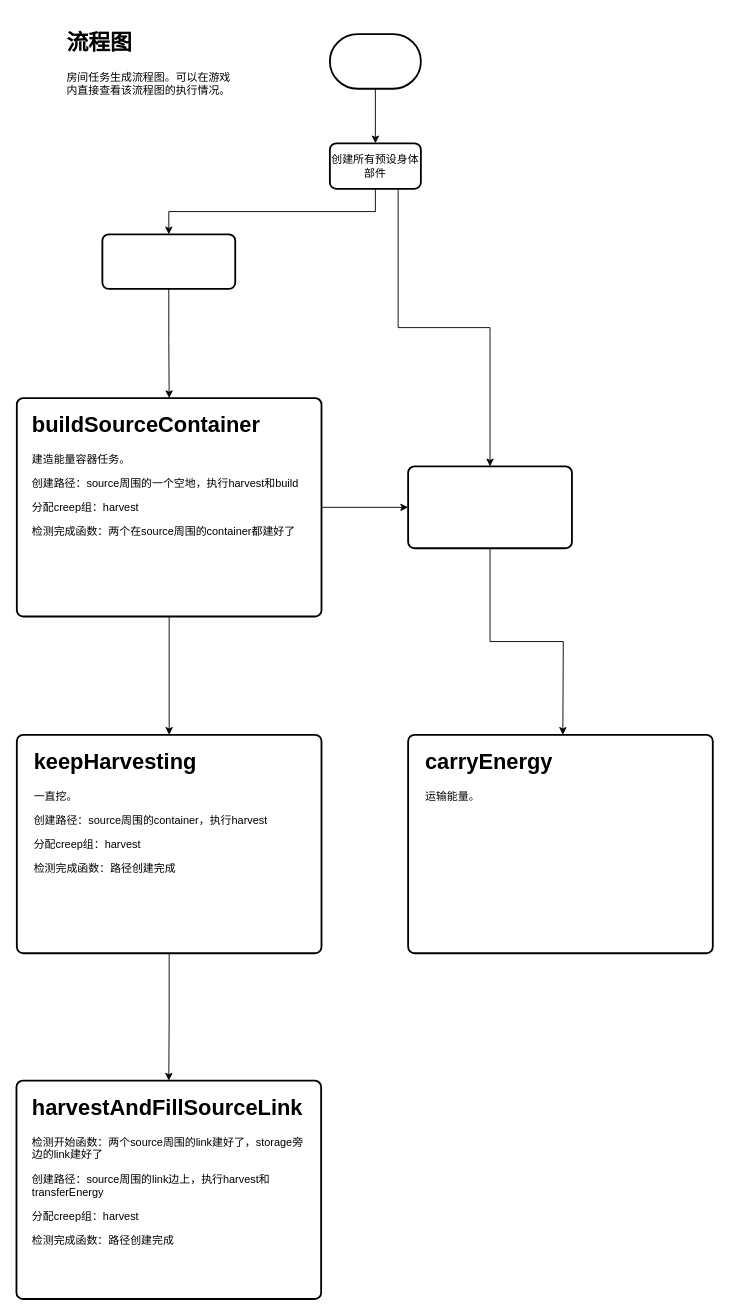
Some shapes in this 730 by 1315 pixel diagram are drawn without their labels. Each missing label, with the box of its shape:
为两个source分别生成两个harvest组: (101, 233, 236, 289)
开始: (329, 33, 421, 89)
生成crrier组: (407, 465, 572, 549)
